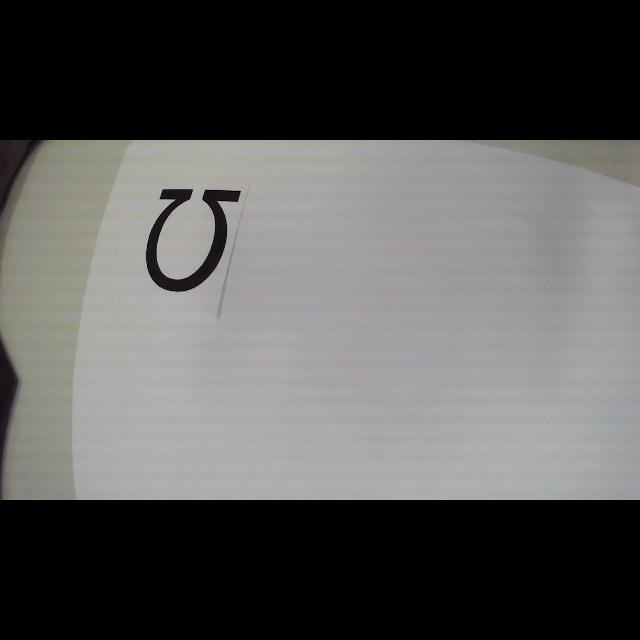OMEGA: (146, 188, 240, 292)
